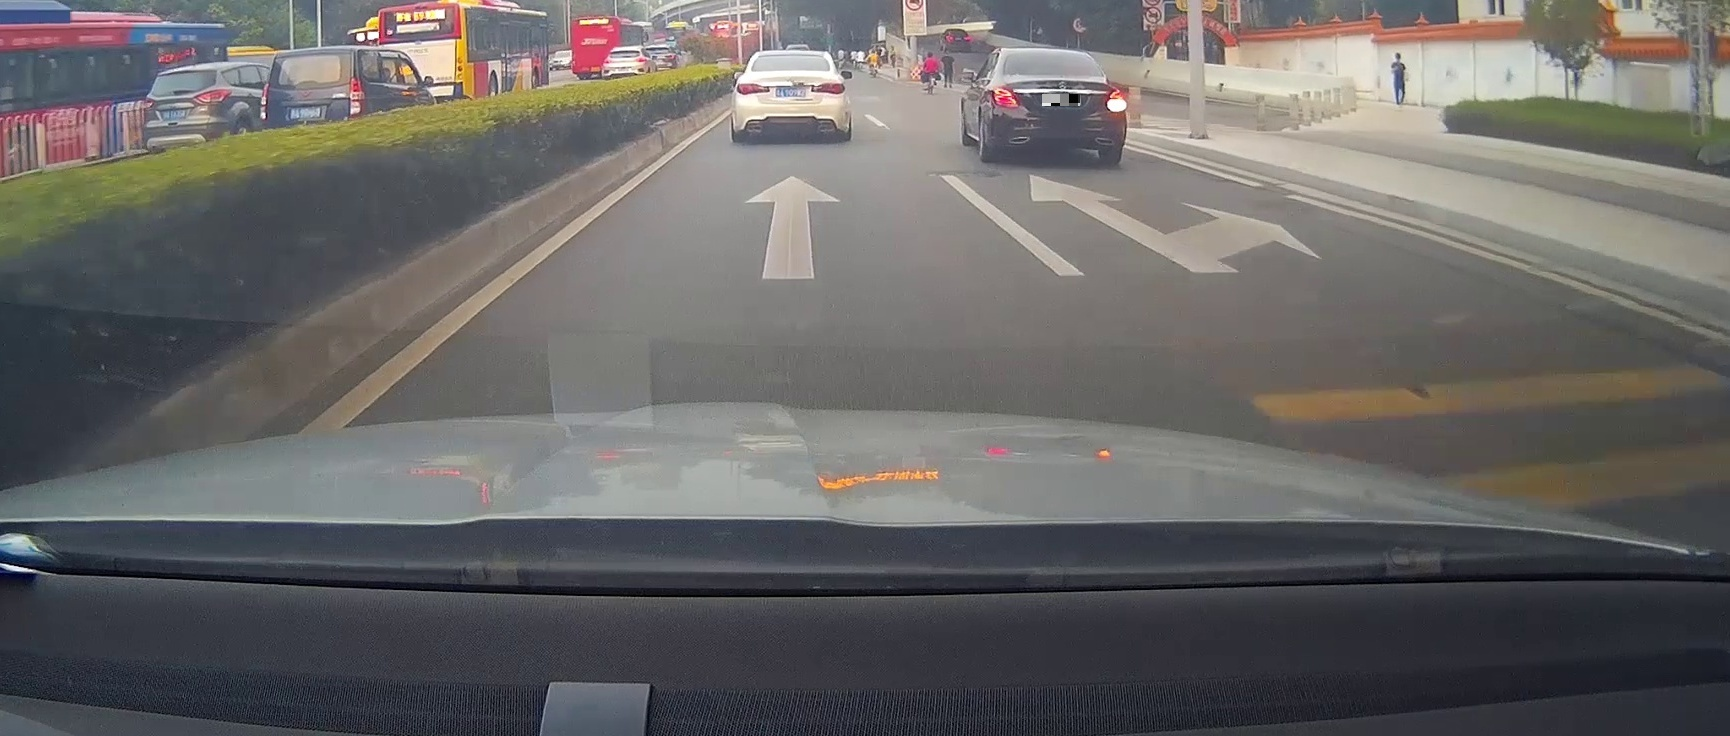L_light: (993, 87, 1019, 108), (737, 82, 769, 95), (259, 82, 269, 119), (143, 97, 156, 108), (602, 58, 612, 63)
R_light: (1106, 88, 1126, 113), (349, 77, 362, 115), (195, 87, 229, 102), (811, 82, 845, 94), (636, 56, 647, 62)
T_light: (293, 79, 319, 87), (1039, 53, 1062, 57), (177, 72, 190, 75), (782, 55, 798, 57), (620, 51, 630, 53)
day-no: (258, 46, 365, 154), (734, 51, 846, 141), (141, 66, 233, 160), (601, 47, 648, 82)
day-right: (989, 47, 1126, 168)
plate_1: (1042, 94, 1080, 106)
